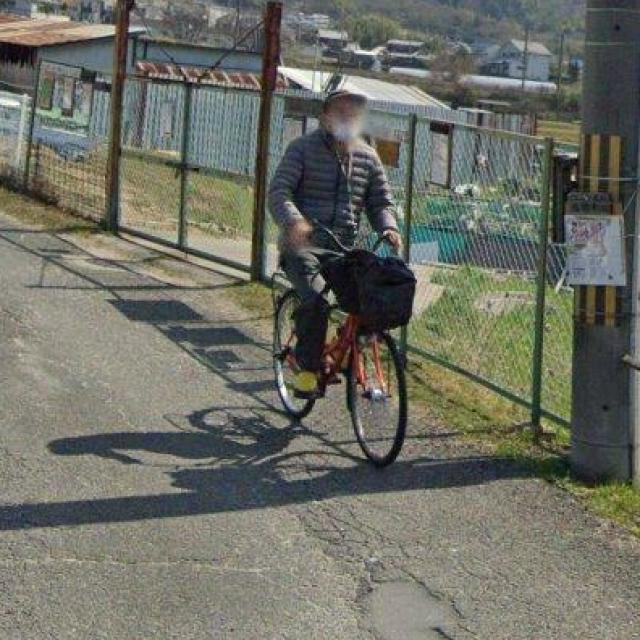bicycle: (278, 267, 412, 465)
